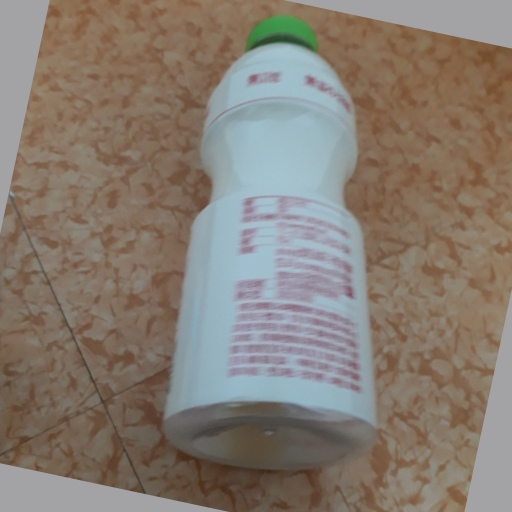Plastic_0: (170, 15, 379, 472)
